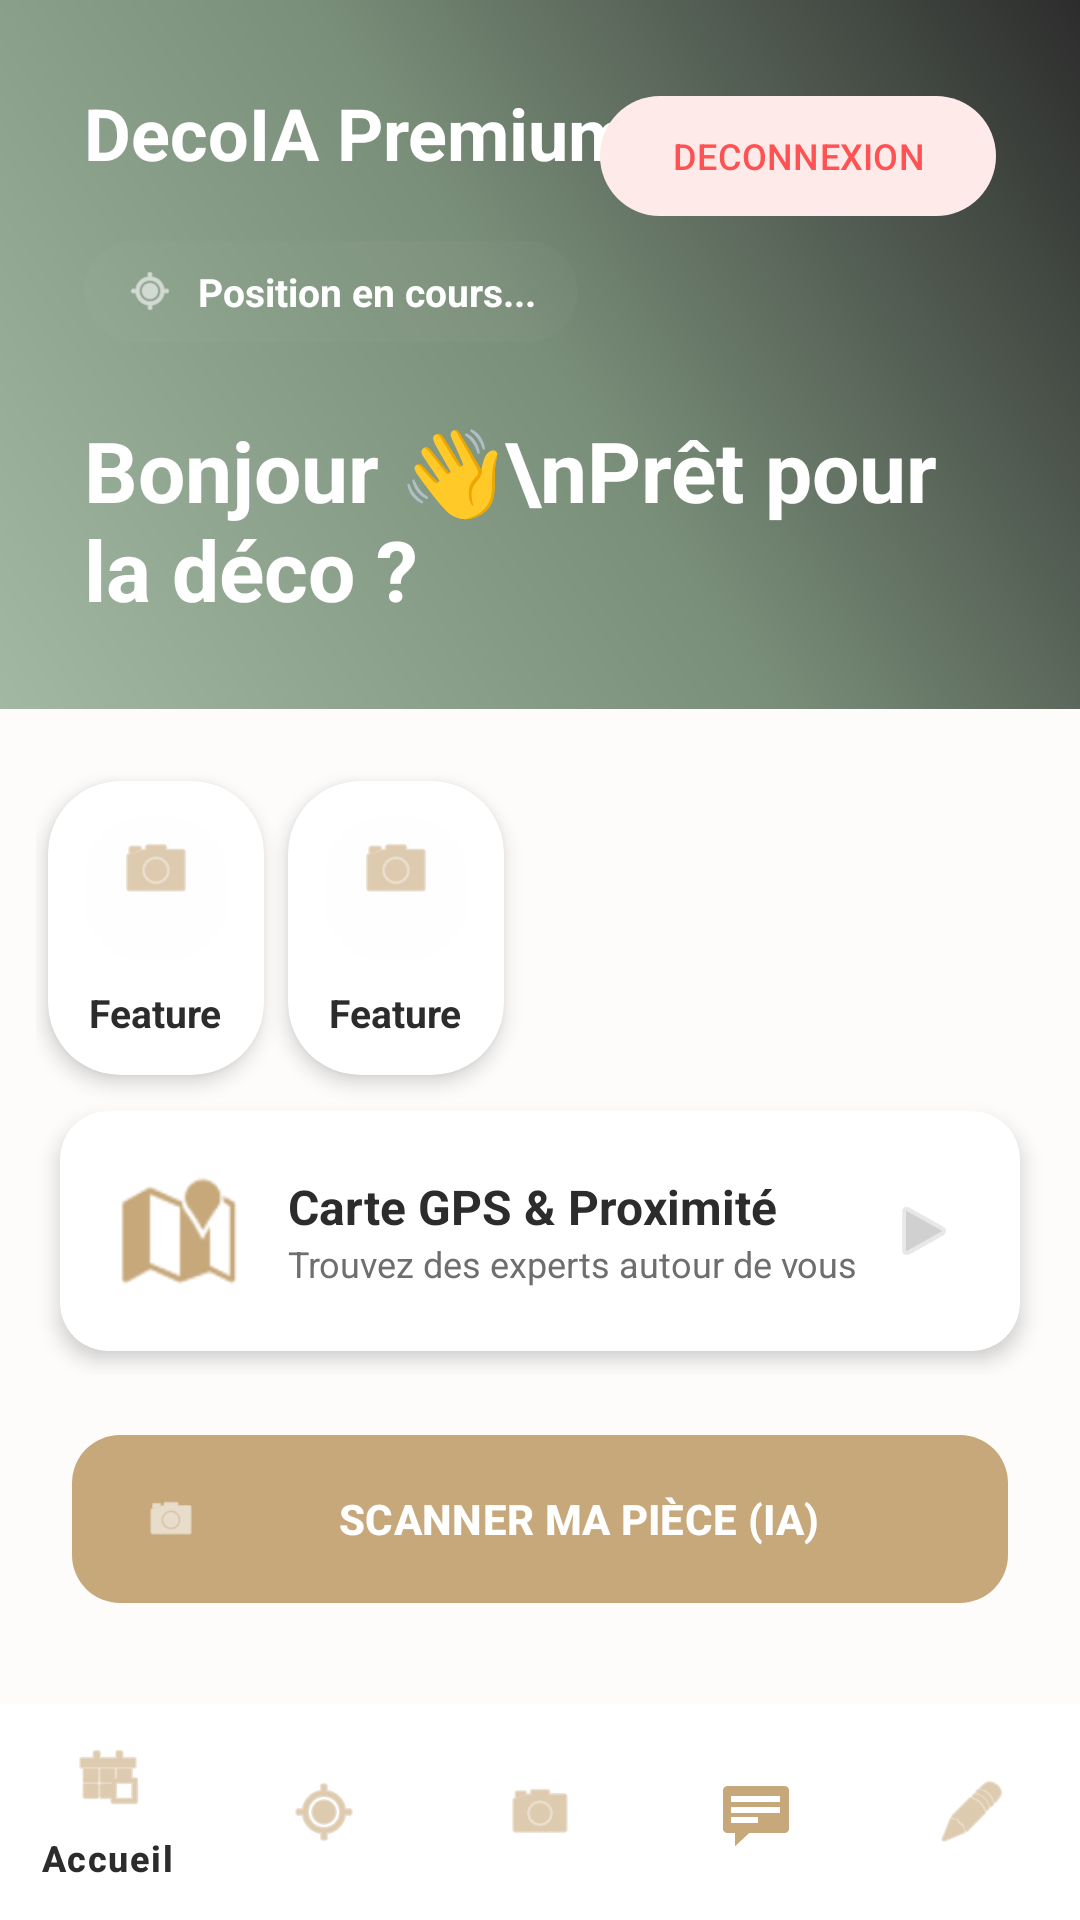

Where icons sit on this 1080*1920 app screen, as {"x1": x1, "y1": y1, "x2": x2, "y2": y2}:
camera: {"x1": 126, "y1": 844, "x2": 186, "y2": 892}, {"x1": 366, "y1": 844, "x2": 426, "y2": 892}
map: {"x1": 121, "y1": 1178, "x2": 236, "y2": 1284}
play: {"x1": 906, "y1": 1210, "x2": 942, "y2": 1252}
